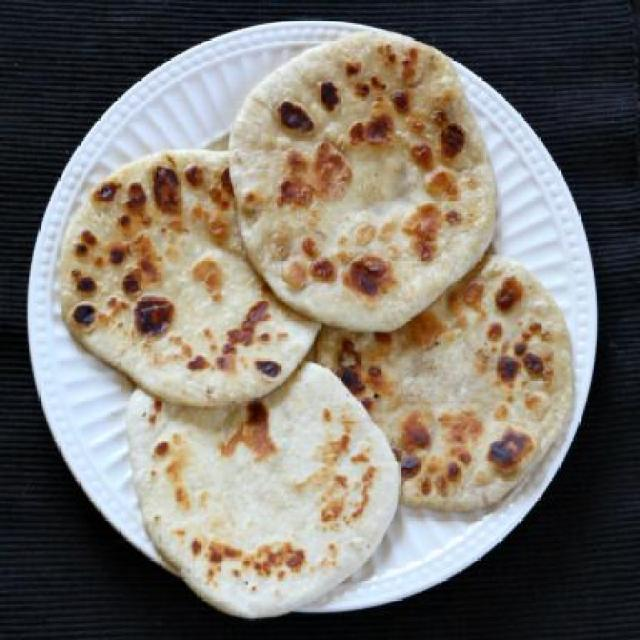chapati: (230, 31, 496, 332), (126, 360, 400, 618), (61, 151, 322, 409), (318, 256, 573, 512)
